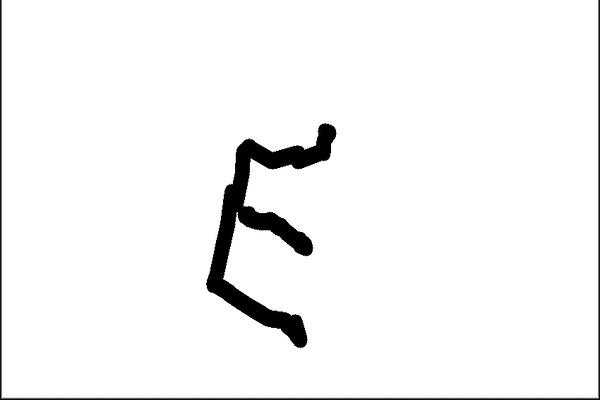E: (201, 121, 342, 351)
